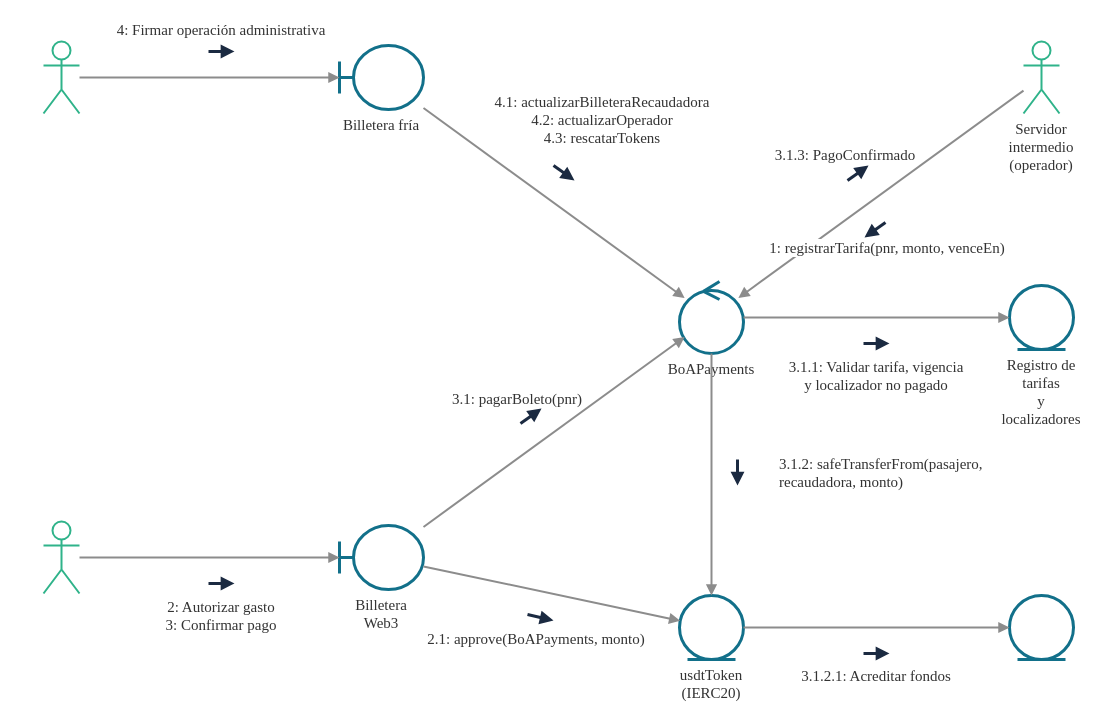
This 1098x719 diagram has some shape labels left out. Here are the shapes that lost their labels. From the top down, the centre of each, then its label:
At (x=61, y=77): "Administrador del contrato".
At (x=61, y=557): "Pasajero".
At (x=1041, y=627): "Billetera recaudadora".
